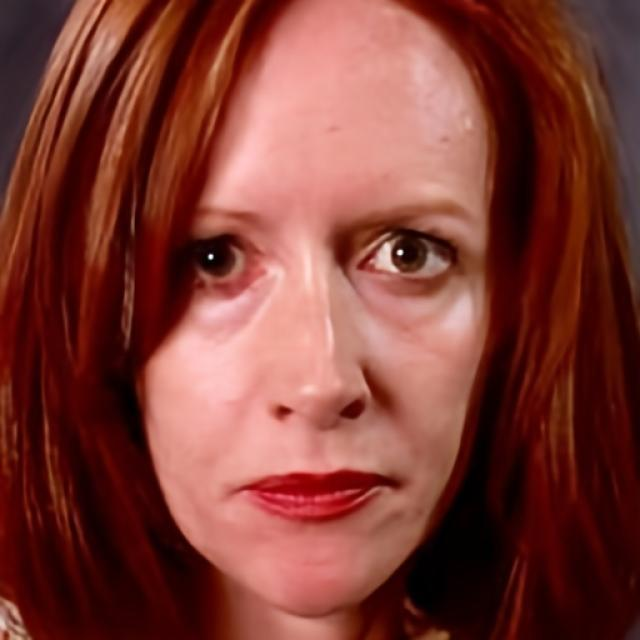fear: (139, 0, 500, 615)
